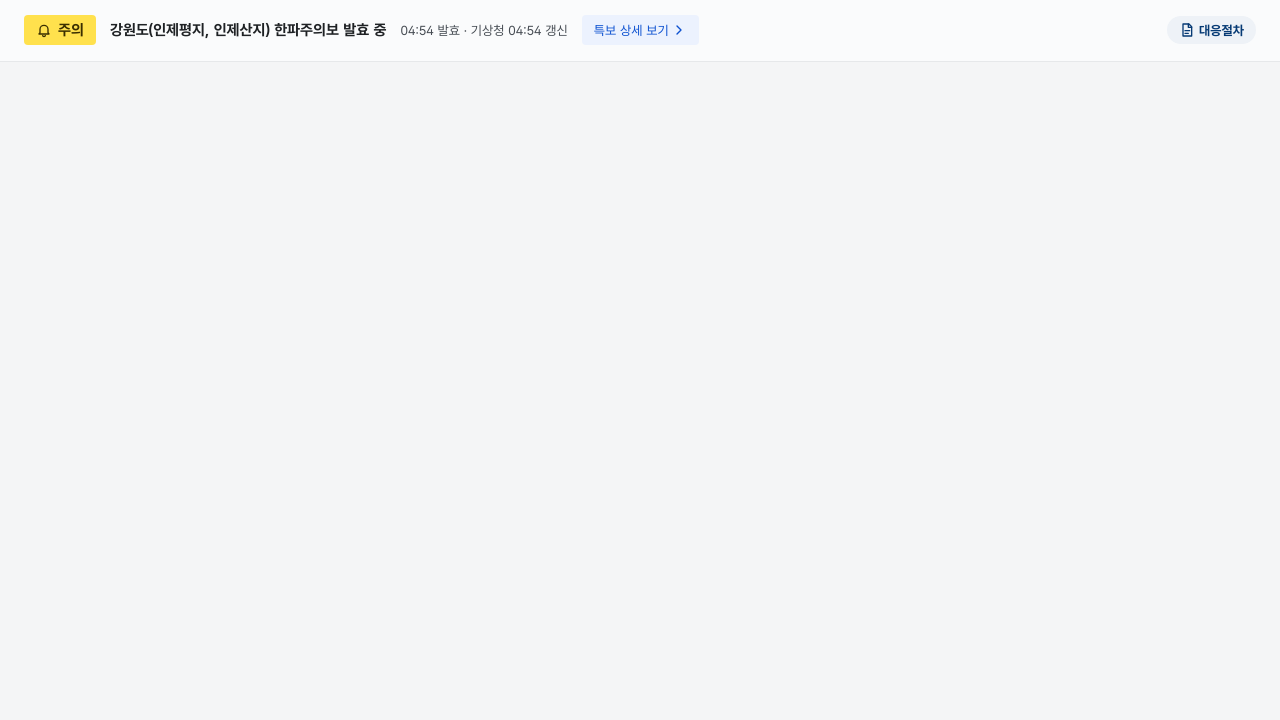
Test case: 기상특보 상세 창 › 받지 못하면 — 서랍 위에 실패 안내(wx-alarm), 특보가 없다고 하지 않는다
Click the button with class "wxmore": (640, 30) [582,15,699,45]
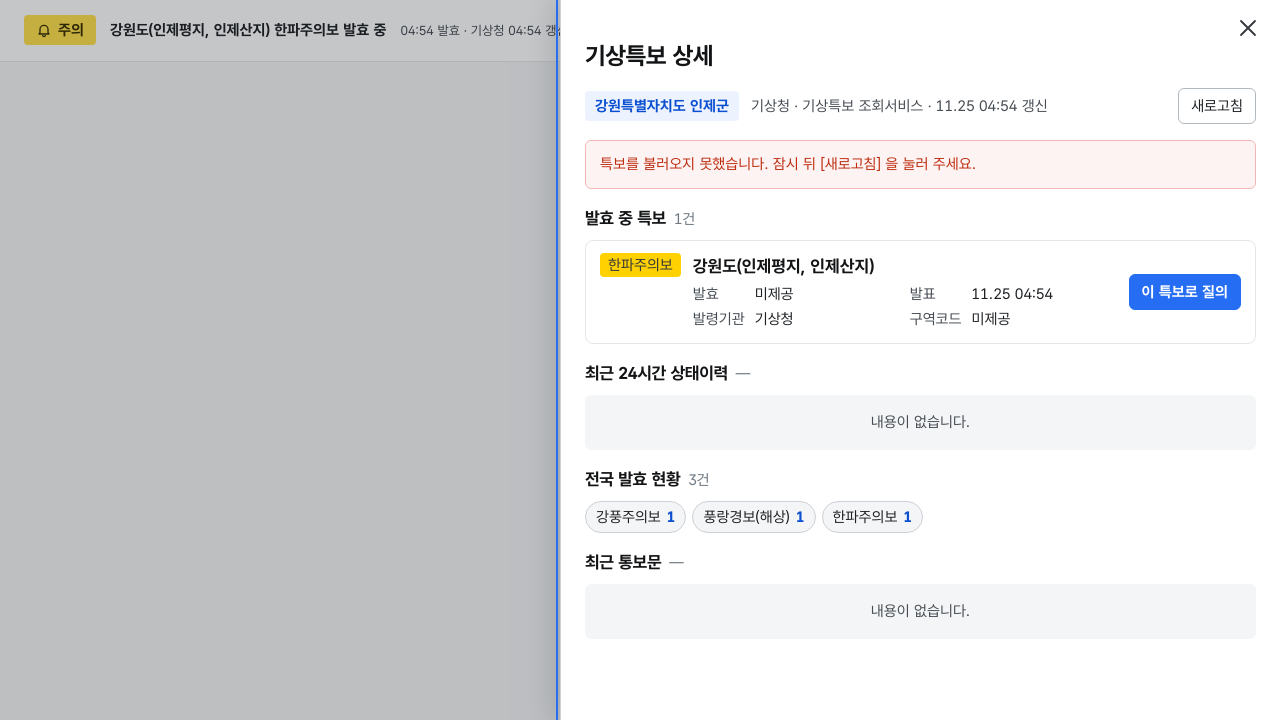
Expected: the message with class "wx-alarm" reads "특보를 불러오지 못했습니다. 잠시 뒤 [새로고침] 을 눌러 주세요.", [600,155,976,173]
